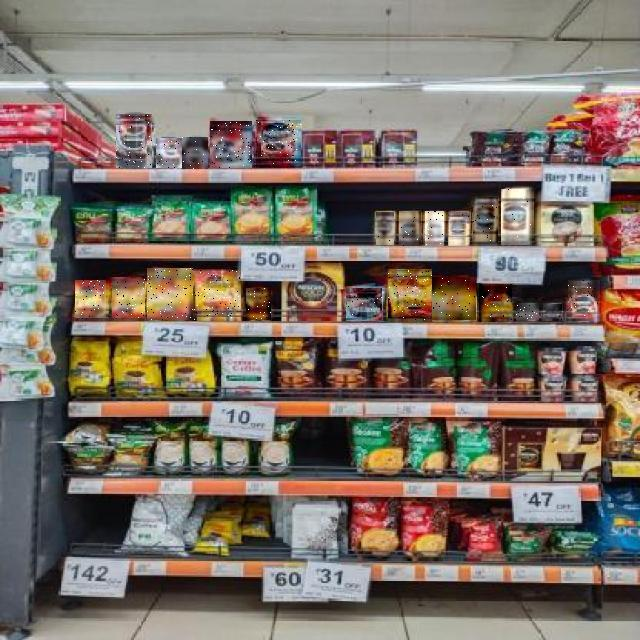Coffee: (147, 269, 193, 321), (195, 271, 241, 321), (388, 270, 432, 322), (256, 120, 301, 168), (210, 121, 252, 168), (117, 114, 153, 168), (432, 277, 476, 320), (502, 189, 534, 245), (568, 280, 600, 322), (112, 279, 145, 318), (479, 284, 512, 322), (76, 280, 108, 318), (473, 198, 498, 246), (346, 288, 382, 321), (183, 137, 209, 169), (246, 289, 271, 321), (156, 138, 182, 168), (399, 211, 421, 246), (448, 212, 470, 246), (425, 211, 444, 246), (377, 212, 395, 245), (516, 305, 539, 321), (543, 304, 563, 322)
